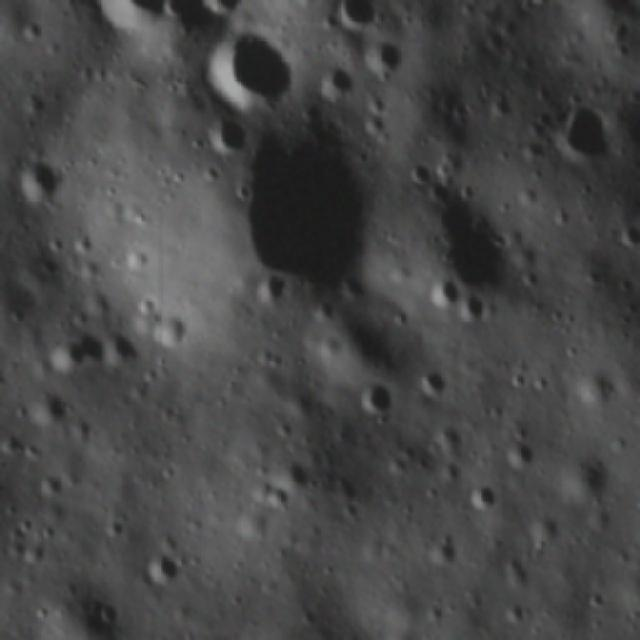crater: (424, 135, 590, 302), (243, 132, 375, 305), (203, 24, 302, 107), (554, 92, 614, 172), (564, 448, 616, 502), (12, 152, 62, 208), (44, 333, 108, 373), (198, 111, 250, 158), (24, 387, 74, 431), (329, 0, 385, 35), (318, 60, 362, 103), (155, 306, 196, 352), (147, 545, 181, 598), (360, 38, 405, 78), (356, 379, 393, 426), (416, 362, 447, 411), (528, 512, 566, 550), (466, 478, 499, 520), (252, 270, 288, 308), (505, 438, 540, 474), (460, 292, 494, 328), (427, 279, 464, 310), (406, 152, 432, 188), (98, 592, 122, 630)
